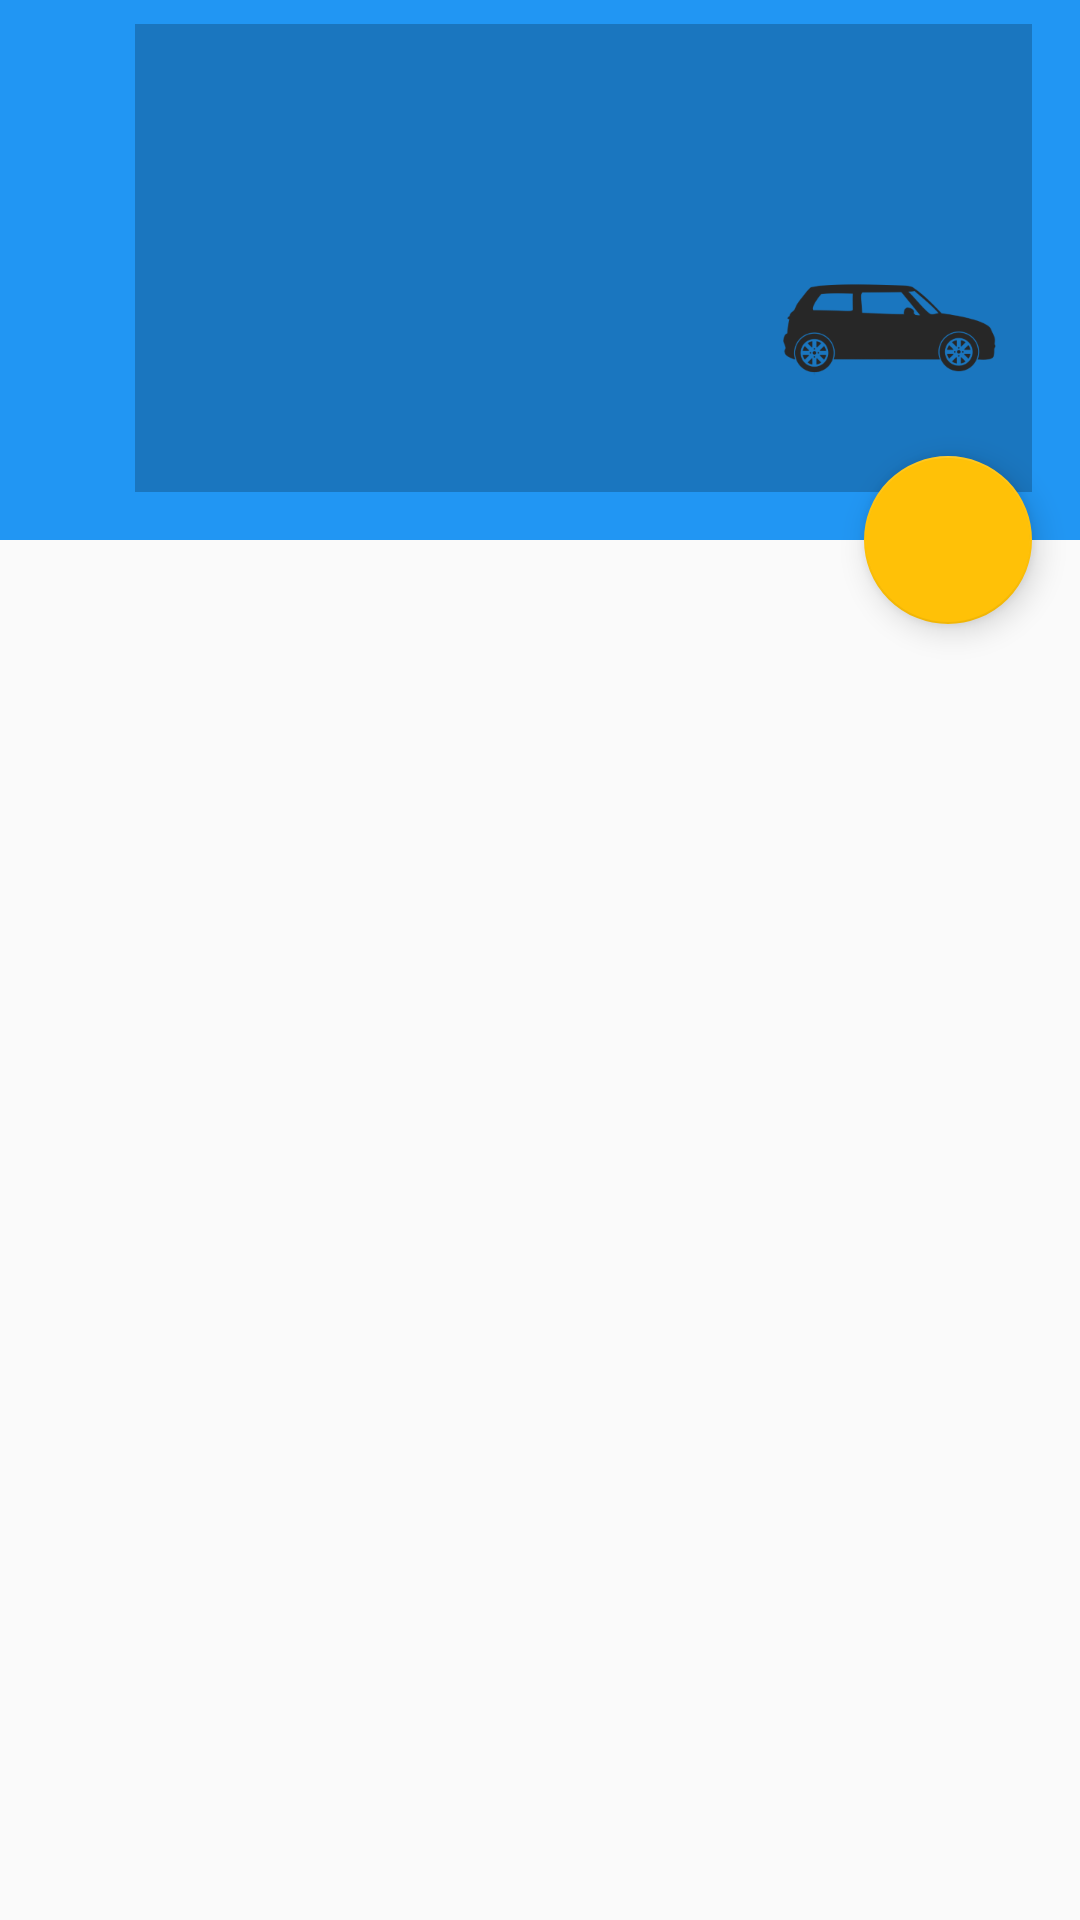

Screen size 1080 × 1920. Icon name, then its center in pixels as [x,y]:
empty car: [889,328]
